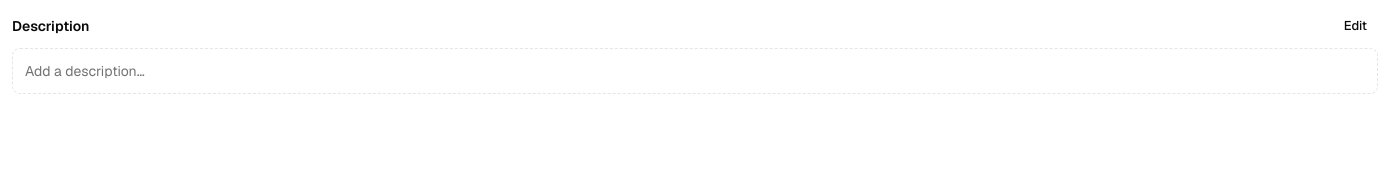
it: cancel discards the draft without dispatch
Click the button "Edit" at (1355, 26), box x1=1333 y1=12 x2=1378 y2=40
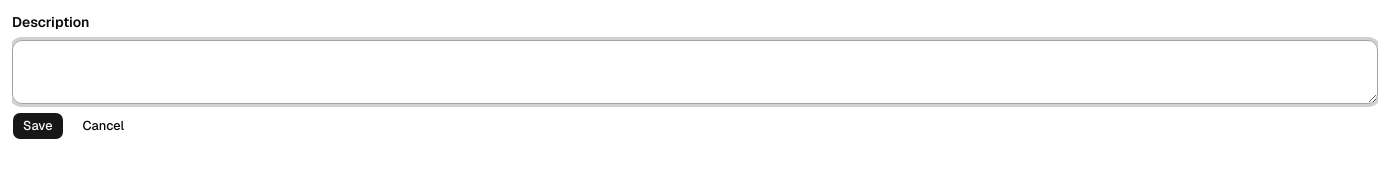
Type "junk" into the text box named "Description" at (695, 72), box x1=12 y1=40 x2=1378 y2=104
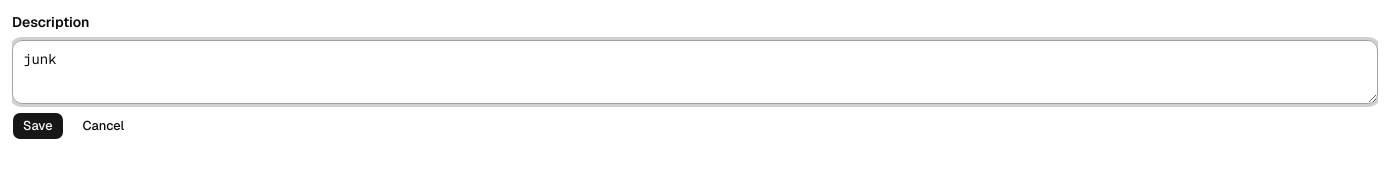
Click the button "Cancel" at (103, 126), box x1=72 y1=112 x2=135 y2=140
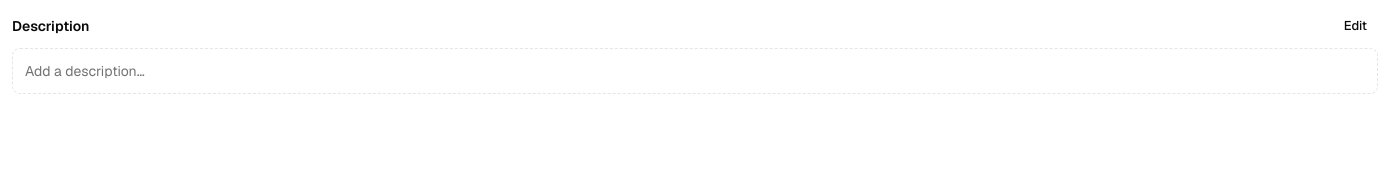
Expected: the button "Add a description…" is shown, x1=12 y1=48 x2=1378 y2=94
